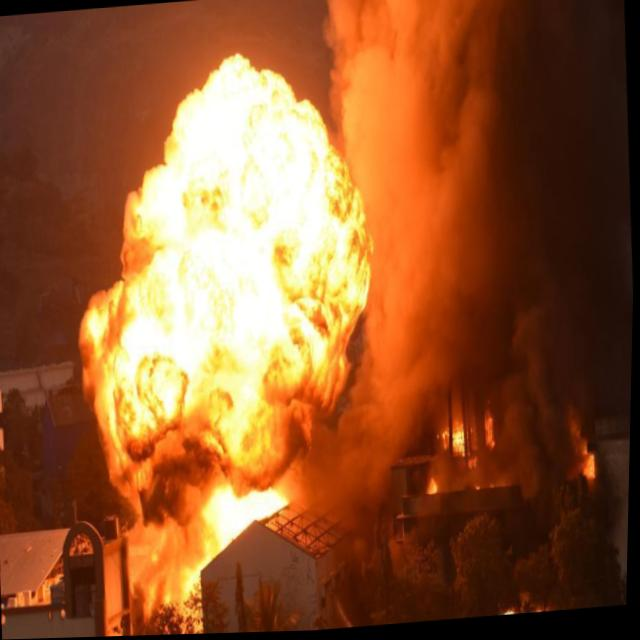fire: (47, 32, 396, 544), (127, 519, 207, 633), (181, 478, 290, 555), (567, 429, 604, 499), (442, 419, 472, 458), (481, 404, 501, 456), (427, 478, 444, 500)
